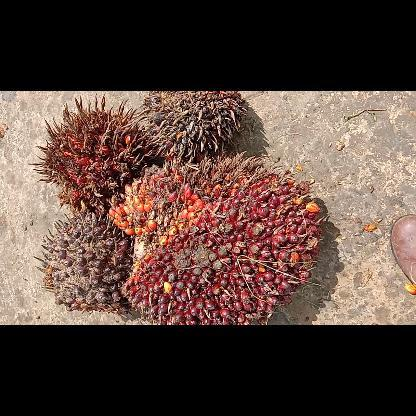Kurang masak: (41, 214, 133, 312)
TBS abnormal: (136, 92, 249, 158)
TBS masak: (107, 154, 329, 324)
Terlalu masak: (30, 96, 156, 212)
